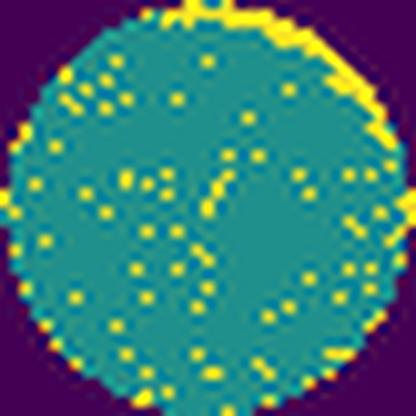Edge-Loc: (159, 0, 400, 154)
